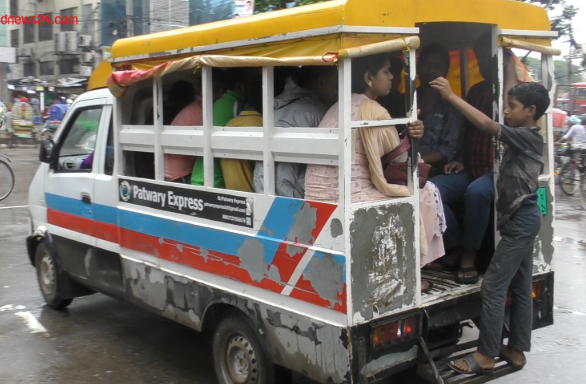Leguna: (18, 6, 570, 383)
